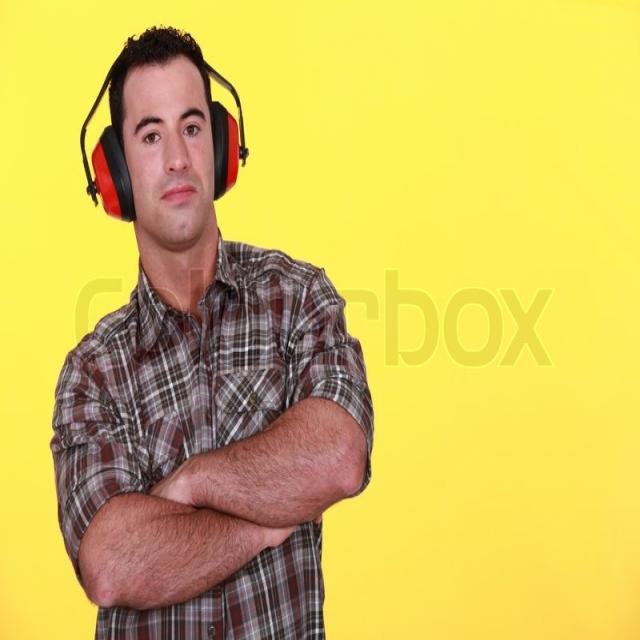Ear-protection: (89, 123, 137, 222), (209, 94, 239, 202)
person: (39, 14, 379, 640)
